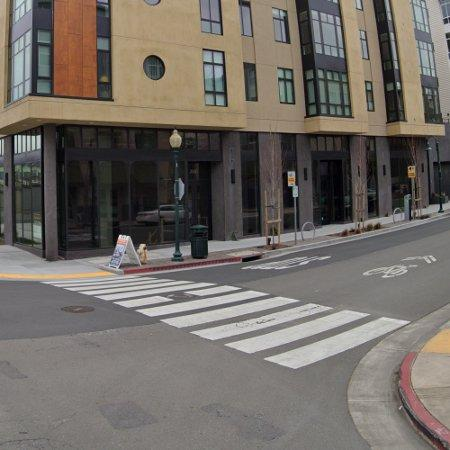crosswalks: (40, 275, 411, 373)
